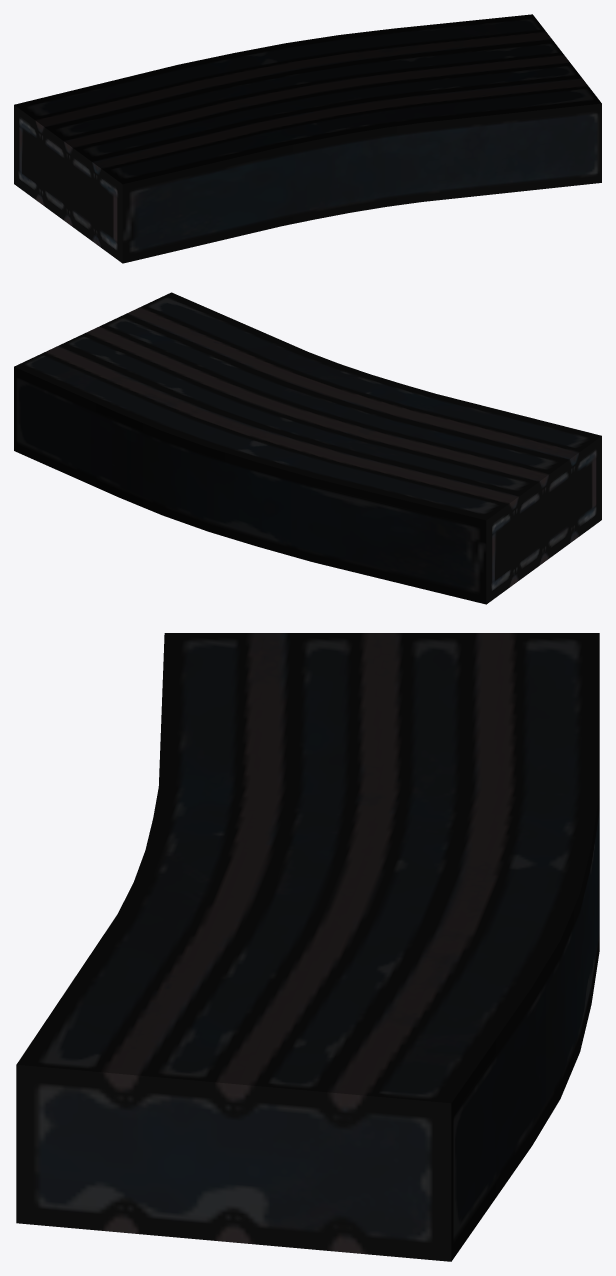
File: M4A1-S_Mag.fbx
3 renders of one model, top to bottom at view 1: azimuth 30°, elevation 25°; view 2: azimuth 150°, elevation 25°; view 3: azimuth 270°, elevation 25°, orthographic. The views are drawn at different scales.
Visible parts, largest first — view 1: M4A1-S_Mag; view 2: M4A1-S_Mag; view 3: M4A1-S_Mag.
Boxes of the visible parts, bbox=[...] form: M4A1-S_Mag: bbox=[14, 14, 601, 263]; M4A1-S_Mag: bbox=[14, 292, 601, 604]; M4A1-S_Mag: bbox=[16, 633, 599, 1261].
Bounding box in the file's own units: 152 × 23.87 × 79.57.
